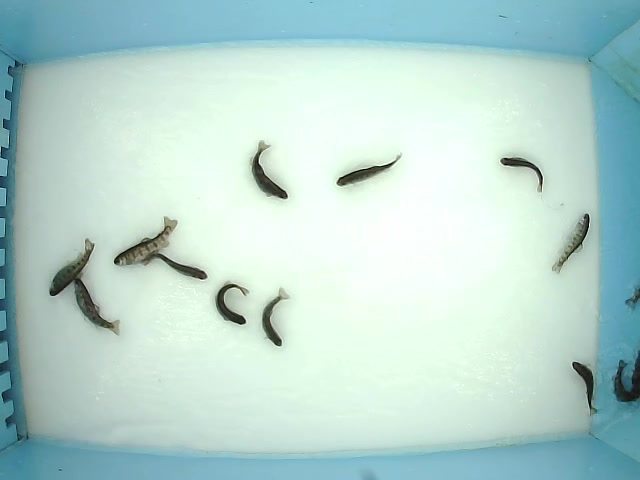fish: (114, 215, 179, 267), (48, 237, 95, 298), (73, 277, 120, 337), (549, 211, 592, 276), (248, 139, 289, 201), (335, 151, 403, 188), (141, 250, 208, 281), (261, 285, 291, 348), (499, 156, 544, 194), (570, 360, 599, 418), (214, 280, 250, 325), (612, 359, 634, 404)
